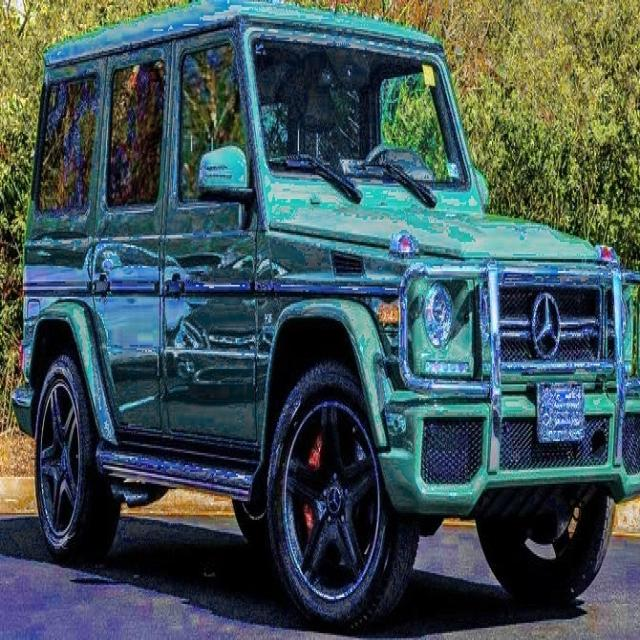green: (16, 4, 640, 636)
